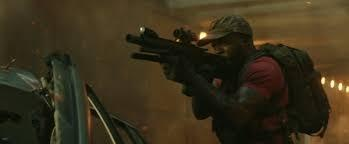rifle: (127, 25, 231, 85)
